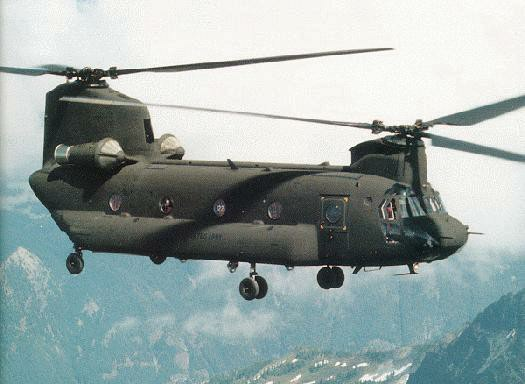chinook: (10, 47, 521, 299)
